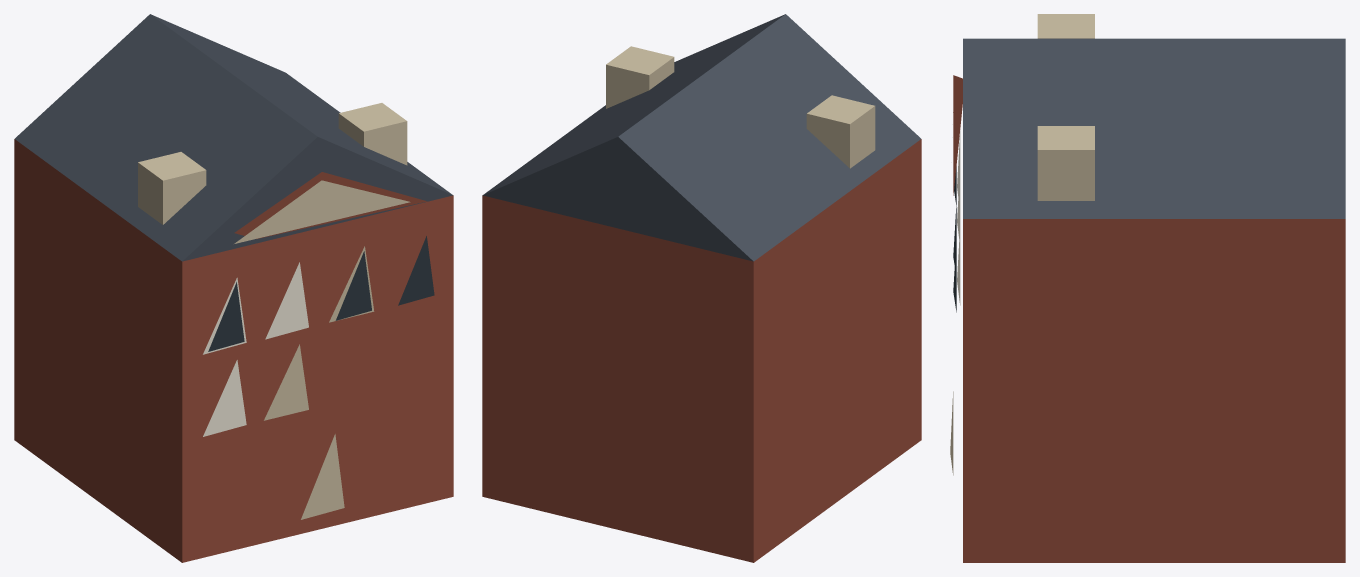
Rendered from rembrandt-house.lod2.glb.
The picture shows the model from 3 angles, left to right: view 1: azimuth 30°, elevation 25°; view 2: azimuth 150°, elevation 25°; view 3: azimuth 270°, elevation 25°; orthographic projection. The views are drawn at different scales.
Visible parts, largest first — view 1: lod2; view 2: lod2; view 3: lod2.
Boxes of the visible parts, x1,y1,x2,y2 form: lod2: (14,14,453,562); lod2: (482,14,921,562); lod2: (950,14,1345,562).
Bounding box in the file's own units: 16.4 × 22.7 × 18.13.
